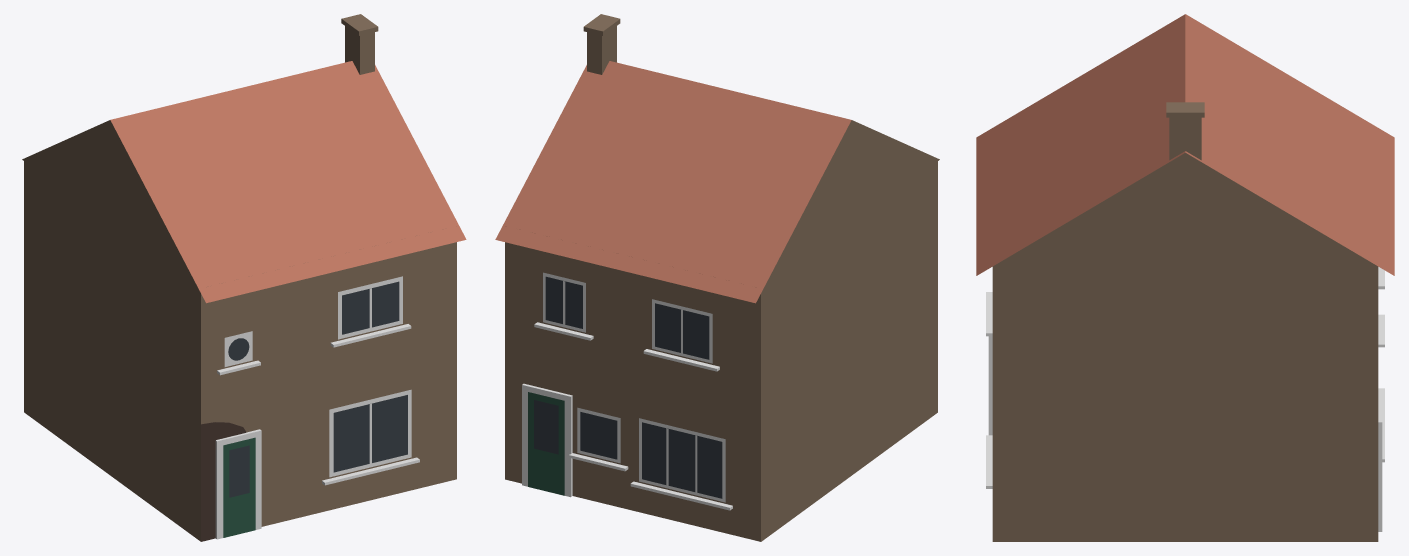
The model's file is ws-wz-porthole__brick__2__gable__long__solid.glb.
3 views of the same model, side by side, from view 1: azimuth 30°, elevation 25°; view 2: azimuth 150°, elevation 25°; view 3: azimuth 270°, elevation 25° (orthographic). The views are drawn at different scales.
Visible parts, largest first — view 1: ws-wz-porthole__brick__2__gable__long__solid; view 2: ws-wz-porthole__brick__2__gable__long__solid; view 3: ws-wz-porthole__brick__2__gable__long__solid.
Part boxes in pixels (x1,y1,x2,y2): ws-wz-porthole__brick__2__gable__long__solid: [22, 14, 466, 541]; ws-wz-porthole__brick__2__gable__long__solid: [495, 14, 939, 541]; ws-wz-porthole__brick__2__gable__long__solid: [976, 14, 1394, 541].
Bounding box in the file's own units: 6.02 × 8.71 × 7.68.
